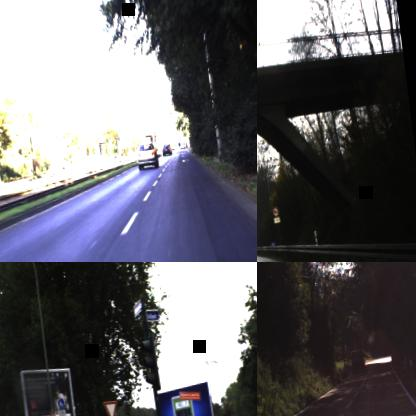give way: (102, 398, 120, 416)
no overtaking: (270, 204, 280, 218)
slippery road: (44, 406, 61, 416)
